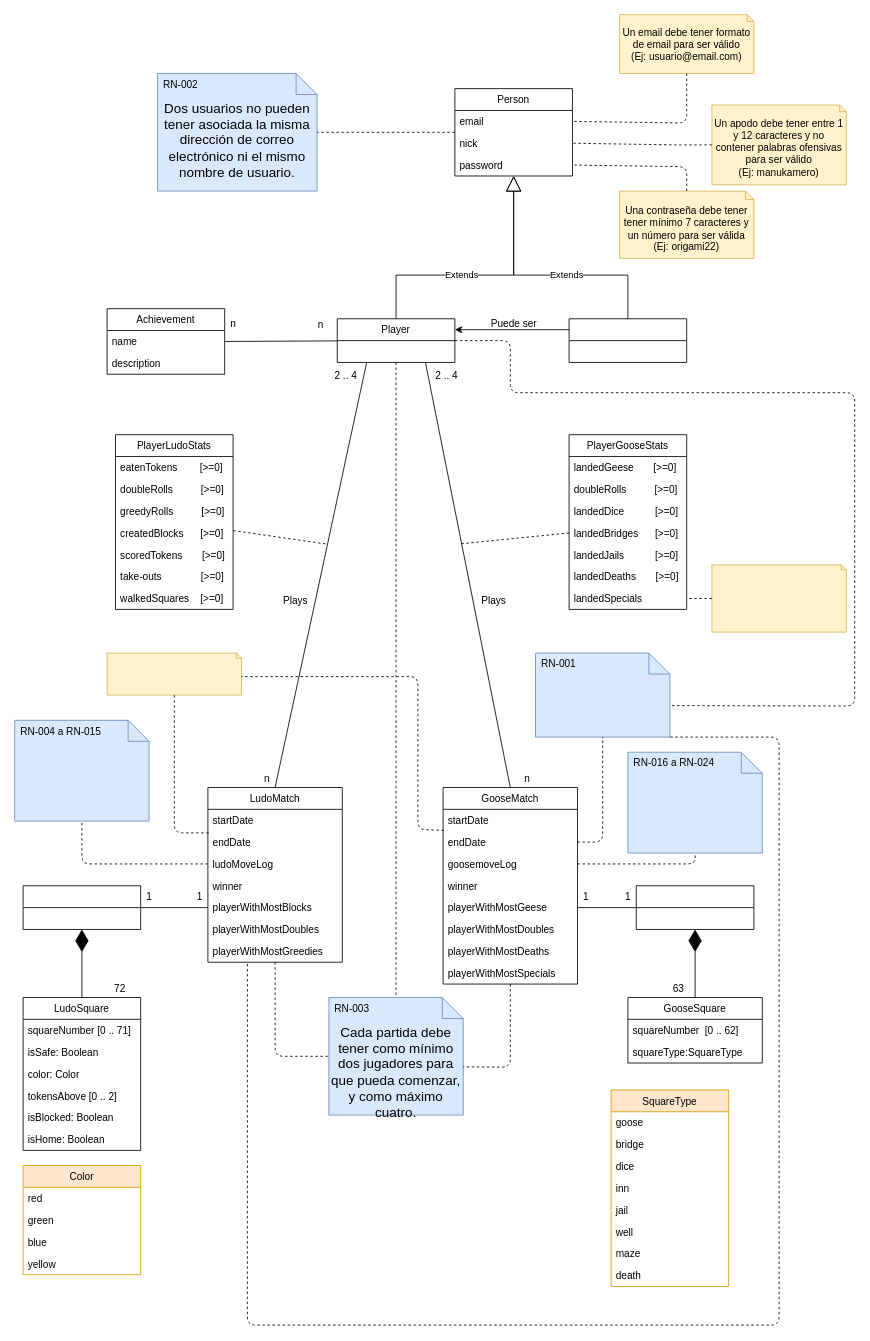
Some shapes in this 870 by 1341 pixel diagram are drawn without their labels. Here are the shapes that lost their labels. From the top down, the centre of each, then its label:
At (627,340): "Admin".
At (778,598): "landedSpecials >= landedGeese + landedBrudges + landedJails + landedDeaths".
At (174,673): "endDate == null o startDate<=endDate".
At (602,694): "Cada jugador solo puede tener una partida en curso.".
At (81,770): "Reglas de negocio relacionadas con el transcurso de una partida de parchís".
At (694,802): "Reglas de negocio relacionadas con el transcurso de una partida de oca.".
At (81,907): "LudoBoard".
At (694,907): "GooseBoard".
